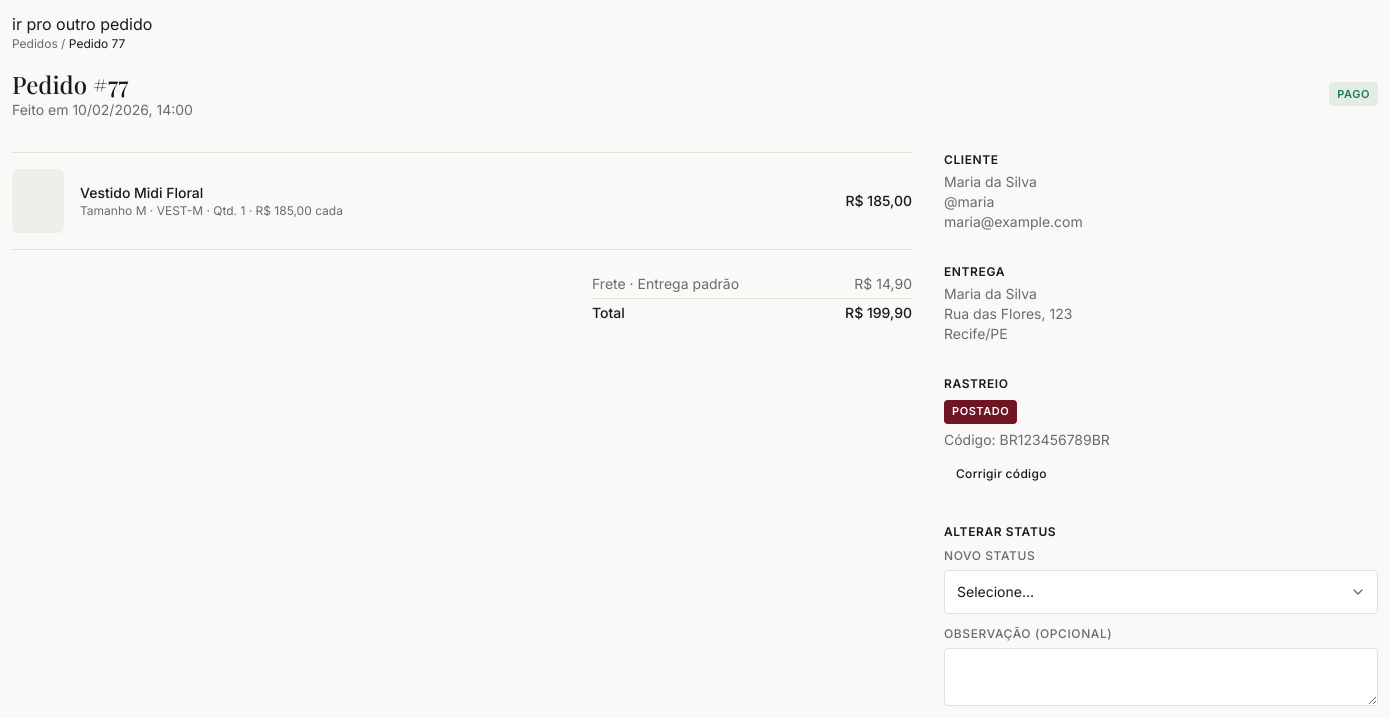
Test case: AdminPedidoDetalhe › trocar de pedido (so o :id muda, sem remontar) limpa o formulario de rastreio do pedido anterior
Check: the heading "Pedido #77" is shown, box [12,68,128,100]
Click the button "Corrigir código" at (1001, 474), box [944,456,1059,492]
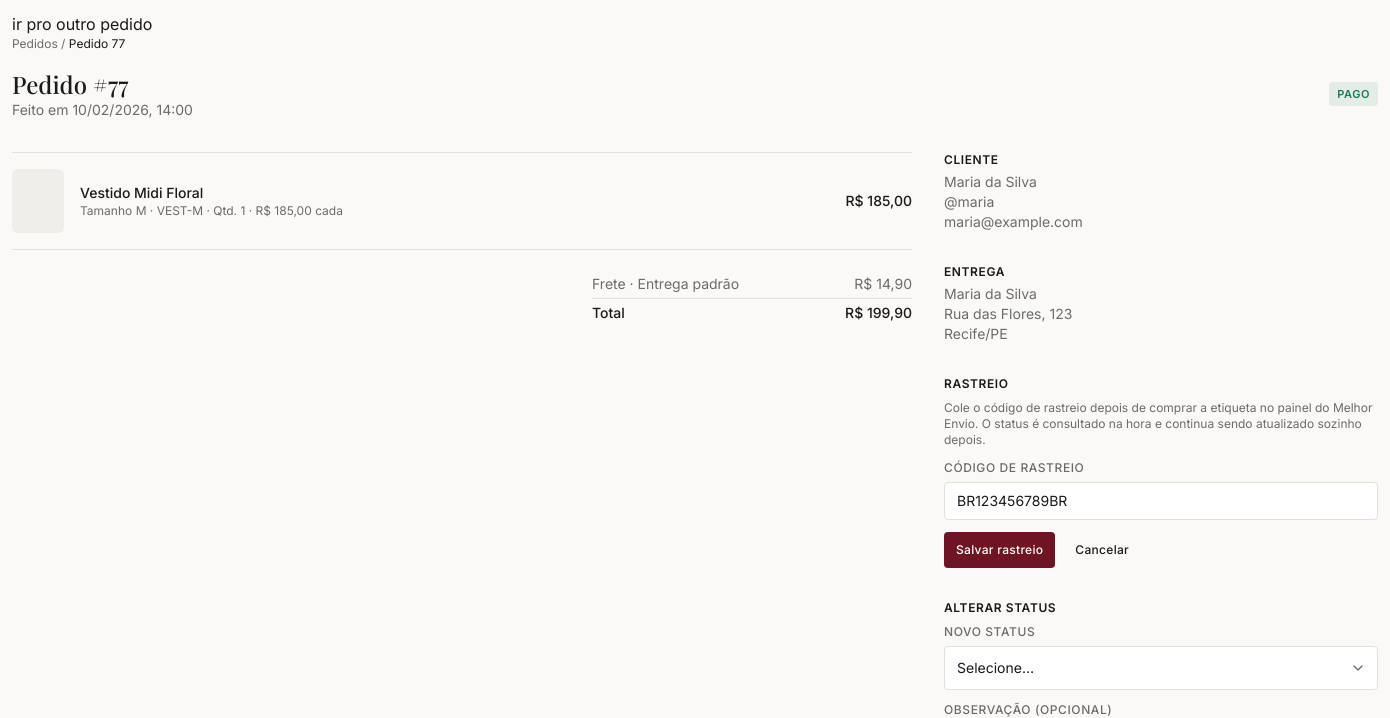
Check: the field labelled "Código de rastreio" holds "BR123456789BR", box [944,482,1378,520]
Click the link "ir pro outro pedido" at (82, 24), box [12,14,152,34]
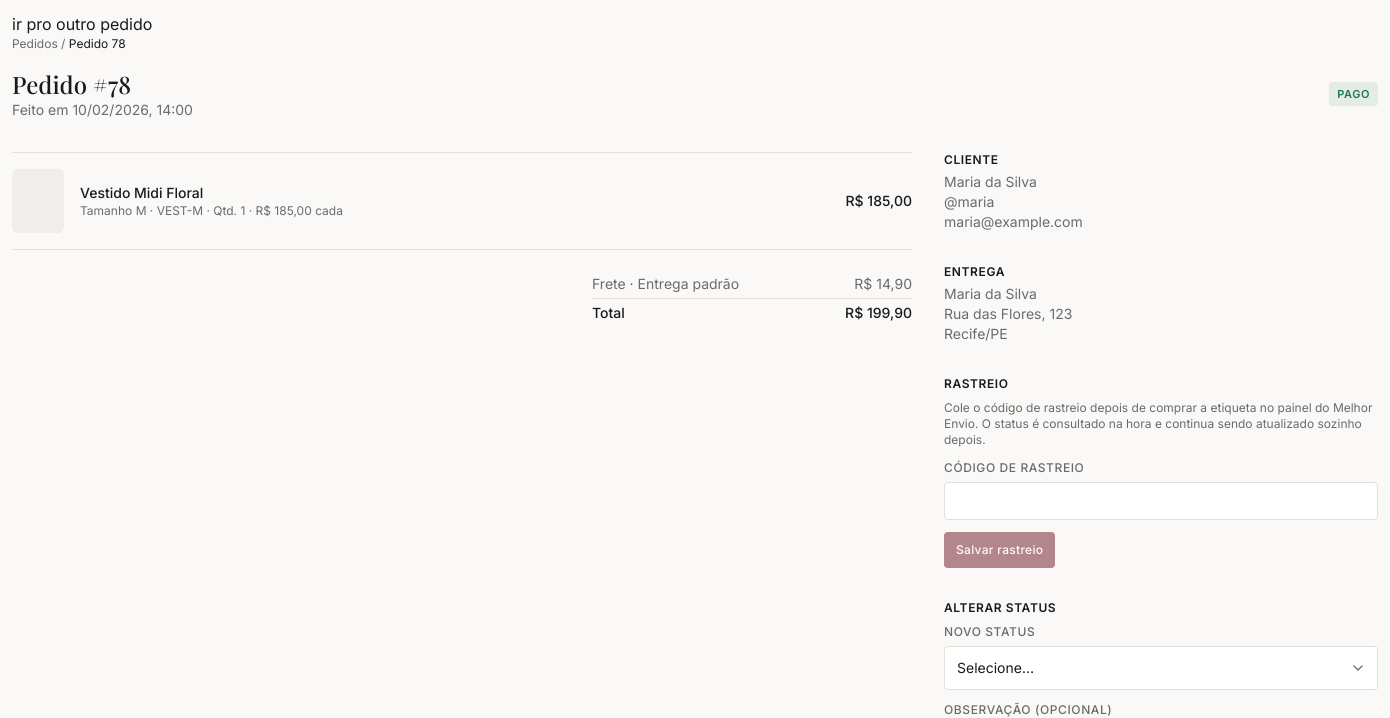
Check: the heading "Pedido #78" is shown, box [12,68,131,100]
Check: the field labelled "Código de rastreio" is empty, box [944,482,1378,520]
